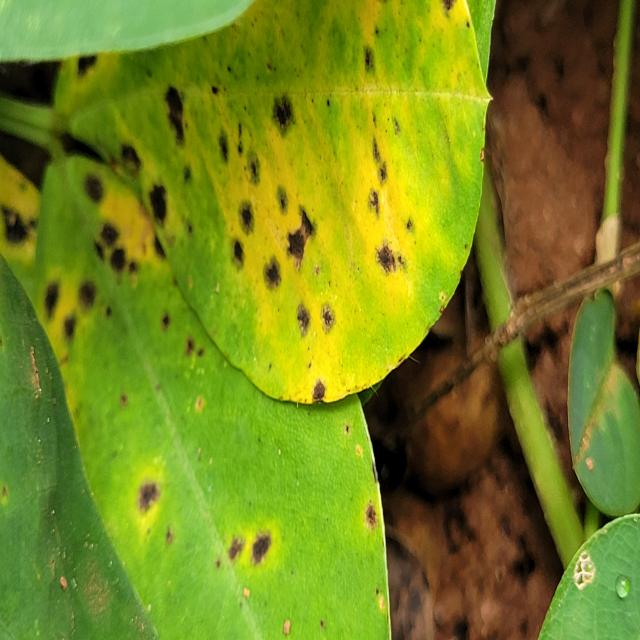Ground nut_tikka leaf spot: (55, 2, 495, 404), (35, 151, 394, 640)
